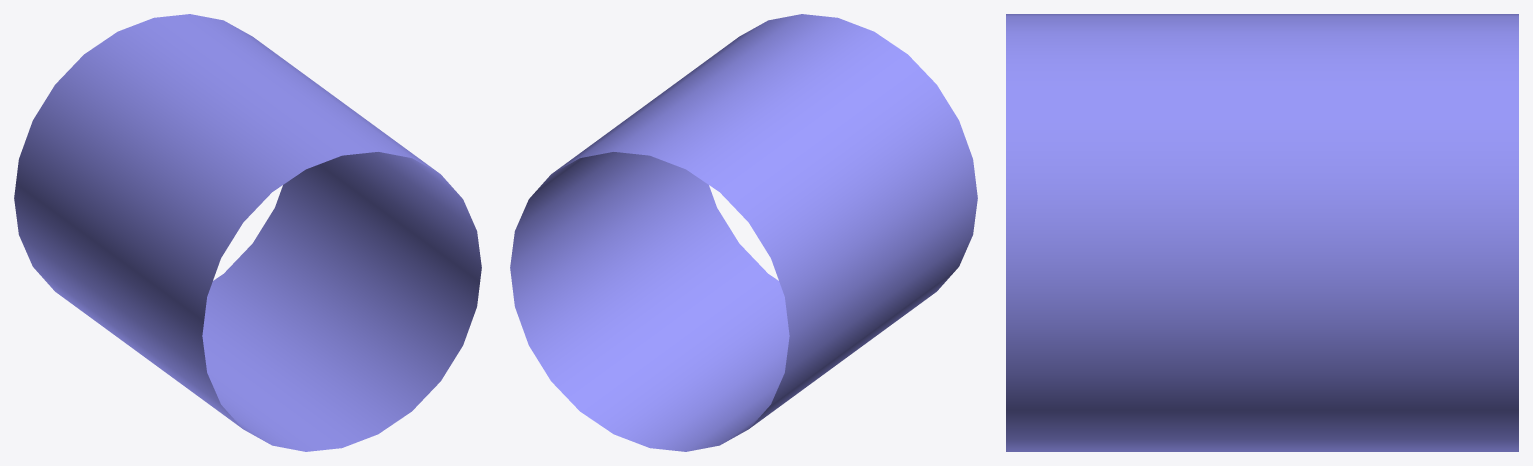
The model's file is original-9.obj.
The picture shows the model from 3 angles, left to right: view 1: azimuth 30°, elevation 25°; view 2: azimuth 150°, elevation 25°; view 3: azimuth 270°, elevation 25°; orthographic projection. The views are drawn at different scales.
Visible parts, largest first — view 1: #ID49; view 2: #ID49; view 3: #ID49.
Boxes of the visible parts, x1,y1,x2,y2 form: #ID49: [14, 14, 481, 451]; #ID49: [510, 14, 977, 451]; #ID49: [1006, 14, 1518, 451].
Bounding box in the file's own units: 0.0596 × 0.0596 × 0.0695.
